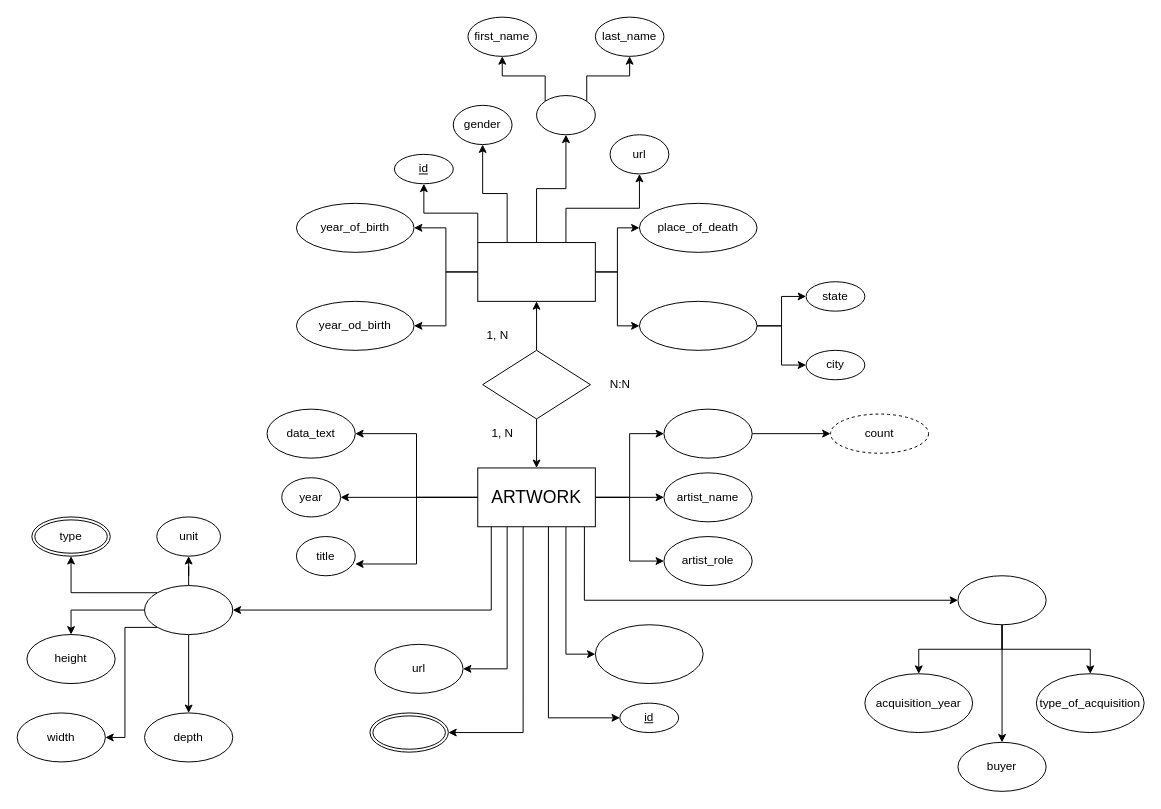
This 1161x809 diagram has some shape labels left out. The centre of each missing label's shape, as x and y in pixels:
"accession_number" goes at point 648,654.
"ARTIST" goes at point 536,271.
"artist_id" goes at point 707,433.
"create" goes at point 536,384.
"credit_line" goes at point 1001,600.
"dimension" goes at point 188,610.
"medium" goes at point 408,732.
"name" goes at point 565,115.
"place_of_birth" goes at point 697,325.
